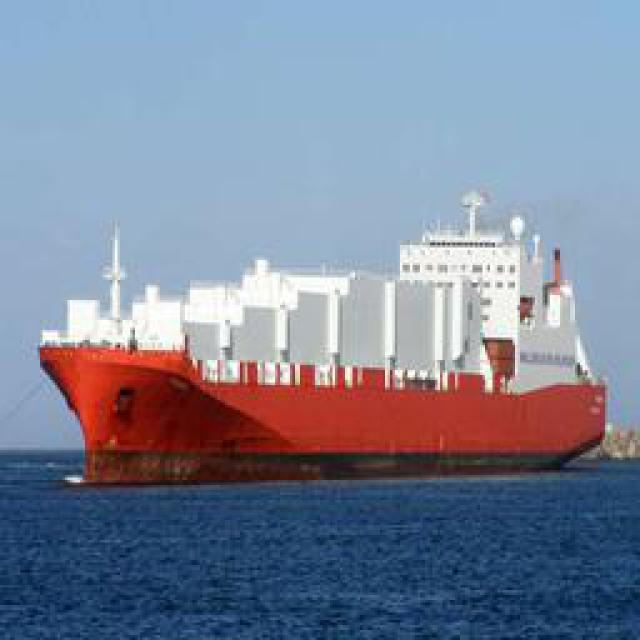Ship: (40, 206, 618, 479)
